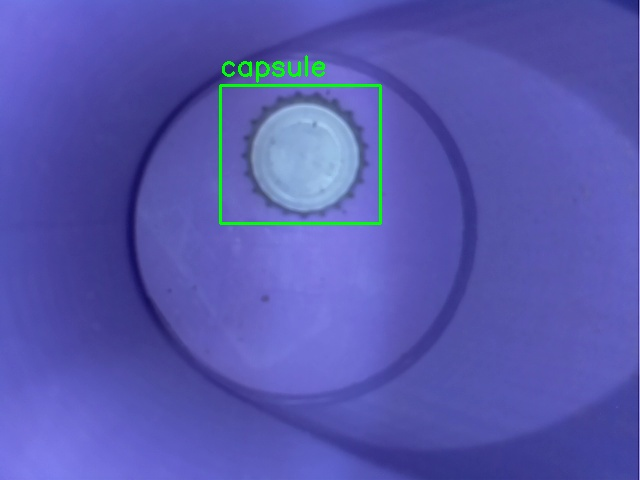capsule: (220, 85, 380, 223)
